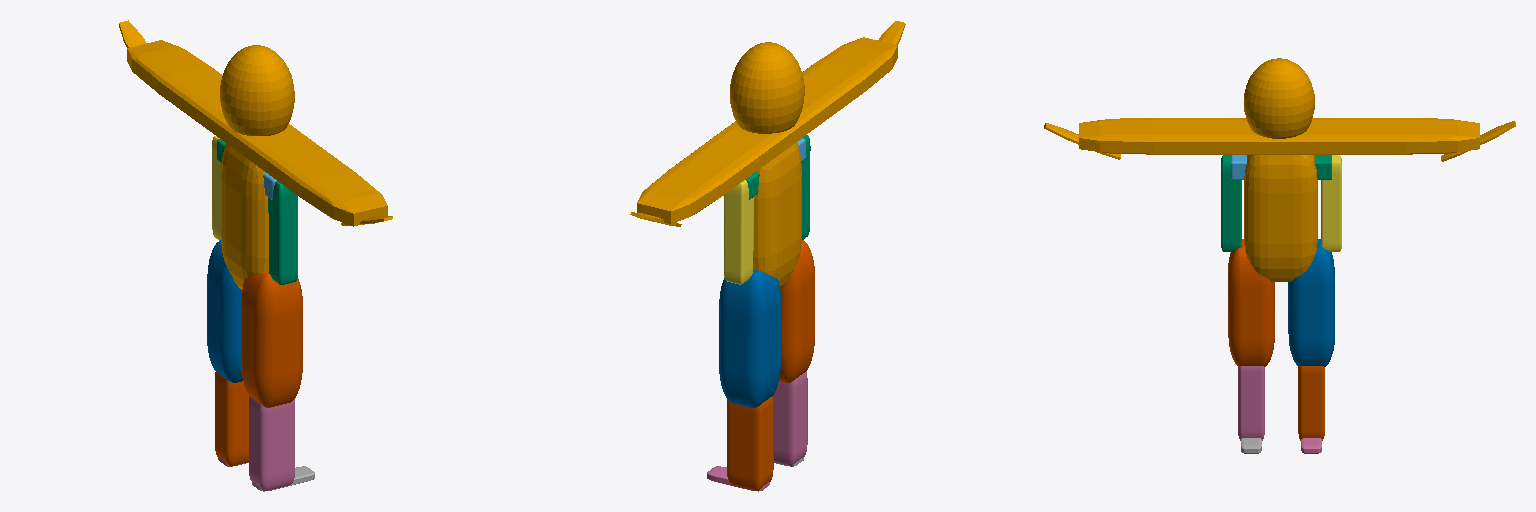
URDF robot description (raphael):
<?xml version="1.0" encoding="utf-8"?>
<robot name="raphael">
	<material name="red">
	    <color rgba="1.0 1.0 1.0 1.0"/>
	  </material>
	<link name="torso">
		<inertial>
	      <origin rpy="0 0 0" xyz="0 0 0"/>
	      <mass value="4"/>
	      <inertia ixx="9.72" ixy="0" ixz="0" iyy="1.333" iyz="0" izz="0.6075"/>
	    </inertial>
	    <visual>
	    	<origin rpy="1.5707 0 0" xyz="0 0 0"/>
	    	<geometry>
	    		<mesh filename="examples/urdf/torso2.obj"/>
	    	</geometry>
	    </visual>
	    <collision>
	    	<origin rpy="0 0 0" xyz="0 0 0.5"/>
	    	<geometry>
	        <cylinder radius="0.25" length="0.8"/>
	      </geometry>
	    </collision>
	</link>

	<link name="left_shoulder_base"/> 

	<link name="left_shoulder">
		<inertial>
	      <origin rpy="0 0 0" xyz="0 0 07"/>
	      <mass value="4"/>
	      <inertia ixx="0.1" ixy="0" ixz="0" iyy="0.01" iyz="0" izz="0.01"/>
	    </inertial>
	    <visual>
	    	<origin rpy="0 0 0" xyz="0 0 0"/>
	    	<geometry>
	    		<mesh filename="examples/urdf/shoulder.obj"/>
	    	</geometry>
	    </visual>
	    <collision>
	    	<origin rpy="0 0 0" xyz="0 0 0"/>
	    	<geometry>
	    		<mesh filename="examples/urdf/shoulder.obj"/>
	    	</geometry>
	    </collision>
	</link>

	 <joint name="left_shoulder_base_joint" type="fixed"> 
	    <parent link="torso"/>
	    <child link="left_shoulder_base"/>
	    <origin rpy="0 0 0" xyz="0 0.2 0.6"/>   
  	</joint>

  <joint name="left_shoulder_joint" type="revolute"> 
	    <parent link="left_shoulder_base"/>
	    <child link="left_shoulder"/>
	    <origin rpy="0 0 0" xyz="0 0 0"/>  
	    <axis xyz="0 1 0"/>
	    <limit lower="-3.1415" upper="3.1415" effort="1.4" velocity="0.25"/>
  </joint>

	<link name="left_hand">
		<inertial>
	      <origin rpy="0 0 0" xyz="0 0 07"/>
	      <mass value="4"/>
	      <inertia ixx="0.1" ixy="0" ixz="0" iyy="0.01" iyz="0" izz="0.01"/>
	    </inertial>
	    <visual>
	    	<origin rpy="0 0 0" xyz="0 0 -0.2"/>
	    	<geometry>
	    		<mesh filename="examples/urdf/hand.obj"/>
	    	</geometry>
	    </visual>
	    <collision>
	    	<origin rpy="0 0 0" xyz="0 0 -0.2"/>
	    	<geometry>
	    		<mesh filename="examples/urdf/hand.obj"/>
	    	</geometry>
	    </collision>
	</link>

	<joint name="left_hand_joint" type="revolute"> 
	    <parent link="left_shoulder"/>
	    <child link="left_hand"/>
	    <origin rpy="0 0 0" xyz="0 0.05 0"/>  
	    <axis xyz="1 0 0"/>
	    <limit lower="-3.1415" upper="3.1415" effort="1.4" velocity="0.25"/>
  </joint>

  <link name="left_gripper">
		<inertial>
	      <origin rpy="0 0 0" xyz="0 0 07"/>
	      <mass value="4"/>
	      <inertia ixx="0.1" ixy="0" ixz="0" iyy="0.01" iyz="0" izz="0.01"/>
	    </inertial>
	    <visual>
	    	<origin rpy="0 0 0" xyz="0 0 0"/>
	    	<geometry>
	    		<mesh filename="examples/urdf/gripper.obj"/>
	    	</geometry>
	    </visual>
	    <collision>
	    	<origin rpy="0 0 0" xyz="0 0 0"/>
	    	<geometry>
	    		<mesh filename="examples/urdf/gripper.obj"/>
	    	</geometry>
	    </collision>
	</link>

	<joint name="left_gripper_joint" type="revolute"> 
	    <parent link="left_hand"/>
	    <child link="left_gripper"/>
	    <origin rpy="0 0 0" xyz="0 0 -0.45"/>  
	    <axis xyz="0 0 1"/>
	    <limit lower="-3.1415" upper="3.1415" effort="1.4" velocity="0.25"/>
  </joint>

  <link name="left_thigh">
		<inertial>
	      <origin rpy="0 0 0" xyz="0 0 07"/>
	      <mass value="4"/>
	      <inertia ixx="0.1" ixy="0" ixz="0" iyy="0.01" iyz="0" izz="0.01"/>
	    </inertial>
	    <visual>
	    	<origin rpy="0 0 0" xyz="0 0 -0.15"/>
	    	<geometry>
	    		<mesh filename="examples/urdf/thigh.obj"/>
	    	</geometry>
	    </visual>
	    <collision>
	    	<origin rpy="0 0 0" xyz="0 0 -0.15"/>
	    	<geometry>
	    		<mesh filename="examples/urdf/thigh.obj"/>
	    	</geometry>
	    </collision>
	</link>

	<joint name="left_thigh_joint" type="revolute"> 
	    <parent link="torso"/>
	    <child link="left_thigh"/>
	    <origin rpy="0 0 0" xyz="0 -0.15 0"/>  
	    <axis xyz="0 1 0"/>
	    <limit lower="-3.1415" upper="3.1415" effort="1.4" velocity="0.25"/>
  </joint>

    <link name="left_leg">
		<inertial>
	      <origin rpy="0 0 0" xyz="0 0 07"/>
	      <mass value="4"/>
	      <inertia ixx="0.1" ixy="0" ixz="0" iyy="0.01" iyz="0" izz="0.01"/>
	    </inertial>
	    <visual>
	    	<origin rpy="0 0 0" xyz="0 0 -0.25"/>
	    	<geometry>
	    		<mesh filename="examples/urdf/leg.obj"/>
	    	</geometry>
	    </visual>
	    <collision>
	    	<origin rpy="0 0 0" xyz="0 0 -0.25"/>
	    	<geometry>
	    		<mesh filename="examples/urdf/leg.obj"/>
	    	</geometry>
	    </collision>
	</link>

	<joint name="left_leg_joint" type="revolute"> 
	    <parent link="left_thigh"/>
	    <child link="left_leg"/>
	    <origin rpy="0 0 0" xyz="0 0 -0.4"/>  
	    <axis xyz="0 1 0"/>
	    <limit lower="-3.1415" upper="3.1415" effort="1.4" velocity="0.25"/>
  </joint>

  <link name="left_foot">
		<inertial>
	      <origin rpy="0 0 0" xyz="0 0 07"/>
	      <mass value="4"/>
	      <inertia ixx="0.1" ixy="0" ixz="0" iyy="0.01" iyz="0" izz="0.01"/>
	    </inertial>
	    <visual>
	    	<origin rpy="0 0 0" xyz="0 -0.11 -0.0"/>
	    	<geometry>
	    		<mesh filename="examples/urdf/foot.obj"/>
	    	</geometry>
	    </visual>
	    <collision>
	    	<origin rpy="0 0 0" xyz="0 -0.11  -0.0"/>
	    	<geometry>
	    		<mesh filename="examples/examples/urdf/foot.obj"/>
	    	</geometry>
	    </collision>
	</link>

	<joint name="left_foot_joint" type="revolute"> 
	    <parent link="left_leg"/>
	    <child link="left_foot"/>
	    <origin rpy="0 0 1.57" xyz="-0.05 0 -0.47"/>  
	    <axis xyz="1 0 0"/>
	    <limit lower="-3.1415" upper="3.1415" effort="1.4" velocity="0.25"/>
  </joint>





  <link name="right_shoulder_base"/> 

  <joint name="right_shoulder_base_joint" type="fixed"> 
	    <parent link="torso"/>
	    <child link="right_shoulder_base"/>
	    <origin rpy="0 0 0" xyz="0 -0.2 0.6"/>   
  	</joint>

  <link name="right_shoulder">
		<inertial>
	      <origin rpy="0 0 0" xyz="0 0 07"/>
	      <mass value="4"/>
	      <inertia ixx="0.1" ixy="0" ixz="0" iyy="0.01" iyz="0" izz="0.01"/>
	    </inertial>
	    <visual>
	    	<origin rpy="0 0 0" xyz="0 0 0"/>
	    	<geometry>
	    		<mesh filename="examples/urdf/shoulder.obj"/>
	    	</geometry>
	    </visual>
	    <collision>
	    	<origin rpy="0 0 0" xyz="0 0 0"/>
	    	<geometry>
	    		<mesh filename="examples/urdf/shoulder.obj"/>
	    	</geometry>
	    </collision>
	</link>

	 <joint name="right_shoulder_joint" type="revolute"> 
	    <parent link="right_shoulder_base"/>
	    <child link="right_shoulder"/>
	    <origin rpy="0 0 0" xyz="0 0 0"/>  
	    <axis xyz="0 1 0"/>
	    <limit lower="-3.1415" upper="3.1415" effort="1.4" velocity="0.25"/>
  </joint>

  <link name="right_hand">
		<inertial>
	      <origin rpy="0 0 0" xyz="0 0 07"/>
	      <mass value="4"/>
	      <inertia ixx="0.1" ixy="0" ixz="0" iyy="0.01" iyz="0" izz="0.01"/>
	    </inertial>
	    <visual>
	    	<origin rpy="0 0 0" xyz="0 0 -0.2"/>
	    	<geometry>
	    		<mesh filename="examples/urdf/hand.obj"/>
	    	</geometry>
	    </visual>
	    <collision>
	    	<origin rpy="0 0 0" xyz="0 0 -0.2"/>
	    	<geometry>
	    		<mesh filename="examples/urdf/hand.obj"/>
	    	</geometry>
	    </collision>
	</link>

	<joint name="right_hand_joint" type="revolute"> 
	    <parent link="right_shoulder"/>
	    <child link="right_hand"/>
	    <origin rpy="0 0 0" xyz="0 -0.05 0"/>  
	    <axis xyz="1 0 0"/>
	    <limit lower="-3.1415" upper="3.1415" effort="1.4" velocity="0.25"/>
  </joint>

  <link name="right_gripper">
		<inertial>
	      <origin rpy="0 0 0" xyz="0 0 07"/>
	      <mass value="4"/>
	      <inertia ixx="0.1" ixy="0" ixz="0" iyy="0.01" iyz="0" izz="0.01"/>
	    </inertial>
	    <visual>
	    	<origin rpy="0 0 0" xyz="0 0 0"/>
	    	<geometry>
	    		<mesh filename="examples/urdf/gripper.obj"/>
	    	</geometry>
	    </visual>
	    <collision>
	    	<origin rpy="0 0 0" xyz="0 0 0"/>
	    	<geometry>
	    		<mesh filename="examples/urdf/gripper.obj"/>
	    	</geometry>
	    </collision>
	</link>

	<joint name="right_gripper_joint" type="revolute"> 
	    <parent link="right_hand"/>
	    <child link="right_gripper"/>
	    <origin rpy="0 0 0" xyz="0 0 -0.45"/>  
	    <axis xyz="0 0 1"/>
	    <limit lower="-3.1415" upper="3.1415" effort="1.4" velocity="0.25"/>
  </joint>

  <link name="right_thigh">
		<inertial>
	      <origin rpy="0 0 0" xyz="0 0 07"/>
	      <mass value="4"/>
	      <inertia ixx="0.1" ixy="0" ixz="0" iyy="0.01" iyz="0" izz="0.01"/>
	    </inertial>
	    <visual>
	    	<origin rpy="0 0 0" xyz="0 0 -0.15"/>
	    	<geometry>
	    		<mesh filename="examples/urdf/thigh.obj"/>
	    	</geometry>
	    </visual>
	    <collision>
	    	<origin rpy="0 0 0" xyz="0 0 -0.15"/>
	    	<geometry>
	    		<mesh filename="examples/urdf/thigh.obj"/>
	    	</geometry>
	    </collision>
	</link>

	<joint name="right_thigh_joint" type="revolute"> 
	    <parent link="torso"/>
	    <child link="right_thigh"/>
	    <origin rpy="0 0 0" xyz="0 0.15 0"/>  
	    <axis xyz="0 1 0"/>
	    <limit lower="-3.1415" upper="3.1415" effort="1.4" velocity="0.25"/>
  </joint>

 <link name="right_leg">
	<inertial>
      <origin rpy="0 0 0" xyz="0 0 07"/>
      <mass value="4"/>
      <inertia ixx="0.1" ixy="0" ixz="0" iyy="0.01" iyz="0" izz="0.01"/>
    </inertial>
    <visual>
    	<origin rpy="0 0 0" xyz="0 0 -0.25"/>
    	<geometry>
    		<mesh filename="examples/urdf/leg.obj"/>
    	</geometry>
    </visual>
    <collision>
    	<origin rpy="0 0 0" xyz="0 0 -0.25"/>
    	<geometry>
    		<mesh filename="examples/urdf/leg.obj"/>
    	</geometry>
    </collision>
</link>

<joint name="right_leg_joint" type="revolute"> 
    <parent link="right_thigh"/>
    <child link="right_leg"/>
    <origin rpy="0 0 0" xyz="0 0 -0.4"/>  
    <axis xyz="0 1 0"/>
    <limit lower="-3.1415" upper="3.1415" effort="1.4" velocity="0.25"/>
  </joint>

  <link name="right_foot">
		<inertial>
	      <origin rpy="0 0 0" xyz="0 0 07"/>
	      <mass value="4"/>
	      <inertia ixx="0.1" ixy="0" ixz="0" iyy="0.01" iyz="0" izz="0.01"/>
	    </inertial>
	    <visual>
	    	<origin rpy="0 0 0" xyz="0 -0.11 -0.0"/>
	    	<geometry>
	    		<mesh filename="examples/urdf/foot.obj"/>
	    	</geometry>
	    </visual>
	    <collision>
	    	<origin rpy="0 0 0" xyz="0 -0.11  -0.0"/>
	    	<geometry>
	    		<mesh filename="examples/urdf/foot.obj"/>
	    	</geometry>
	    </collision>
	</link>

	<joint name="right_foot_joint" type="revolute"> 
	    <parent link="right_leg"/>
	    <child link="right_foot"/>
	    <origin rpy="0 0 1.57" xyz="-0.05 0 -0.47"/>  
	    <axis xyz="1 0 0"/>
	    <limit lower="-3.1415" upper="3.1415" effort="1.4" velocity="0.25"/>
  </joint>


</robot>

--- Facts derived from the render (not from the file) ---
The picture shows the robot from 3 angles, left to right: view 1: azimuth 30°, elevation 25°; view 2: azimuth 150°, elevation 25°; view 3: azimuth 270°, elevation 25°; orthographic projection.
Robot: raphael — 15 links, 14 joints (12 revolute, 2 fixed); root link torso; default pose: all joints at 0.
Links seen in each view (by area): view 1: torso, left_thigh, left_leg, right_thigh, right_leg, right_hand, left_hand; view 2: torso, right_thigh, right_leg, left_thigh, left_leg, left_hand, right_hand; view 3: torso, right_thigh, left_thigh, left_leg, right_leg, left_hand, right_hand.
Link boxes in pixels (x1,y1,x2,y2): torso: (119, 20, 392, 289); left_thigh: (241, 271, 302, 407); left_leg: (249, 396, 294, 490); right_thigh: (207, 240, 242, 382); right_leg: (215, 372, 248, 466); right_hand: (268, 181, 297, 284); left_hand: (212, 136, 221, 240); torso: (630, 21, 905, 289); right_thigh: (719, 270, 780, 407); right_leg: (727, 396, 773, 490); left_thigh: (779, 240, 814, 382); left_leg: (773, 371, 807, 466); left_hand: (724, 180, 753, 284); right_hand: (801, 135, 810, 239); torso: (1044, 58, 1515, 281); right_thigh: (1288, 239, 1334, 366); left_thigh: (1228, 239, 1274, 366); left_leg: (1238, 366, 1264, 440); right_leg: (1298, 366, 1324, 440); left_hand: (1321, 155, 1341, 251); right_hand: (1221, 155, 1241, 251).
Size in the robot's own frame: 0.3569 by 2.35 by 2.08 metres.
11 mesh visuals loaded from 7 distinct referenced files (6 OBJ); not drawn: 2 (reference not matched to a file when rendering).
